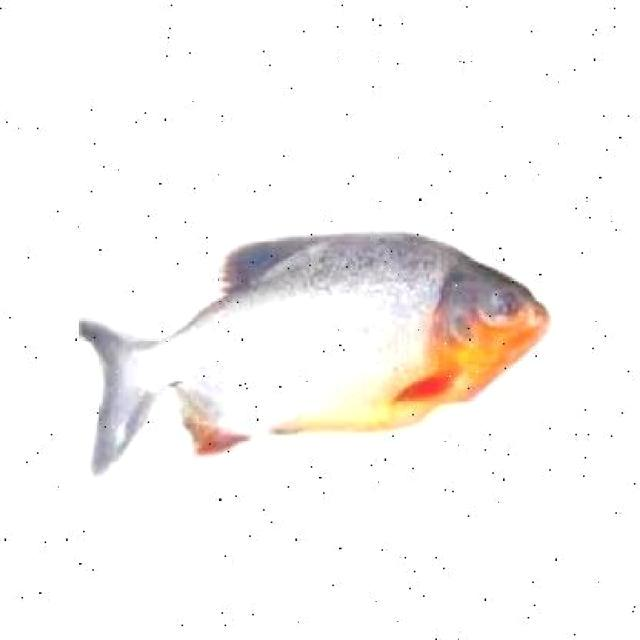ikan-pacu: (105, 228, 544, 437)
